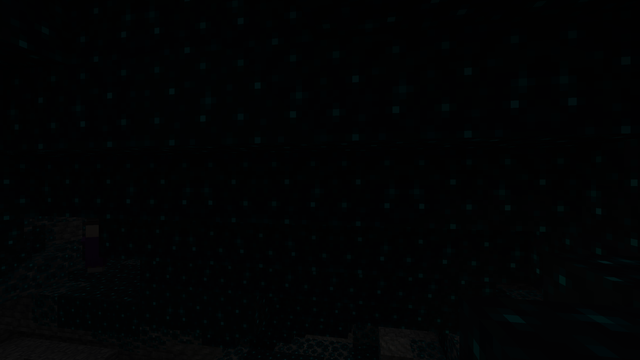sorcieres: (82, 220, 110, 273)
